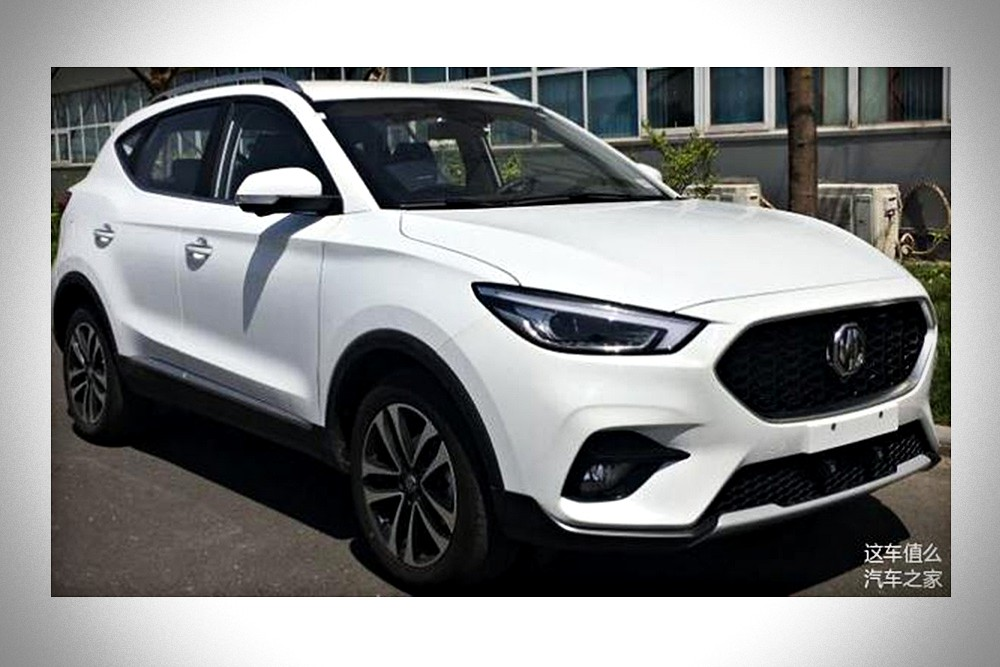pickup: (53, 76, 943, 583)
